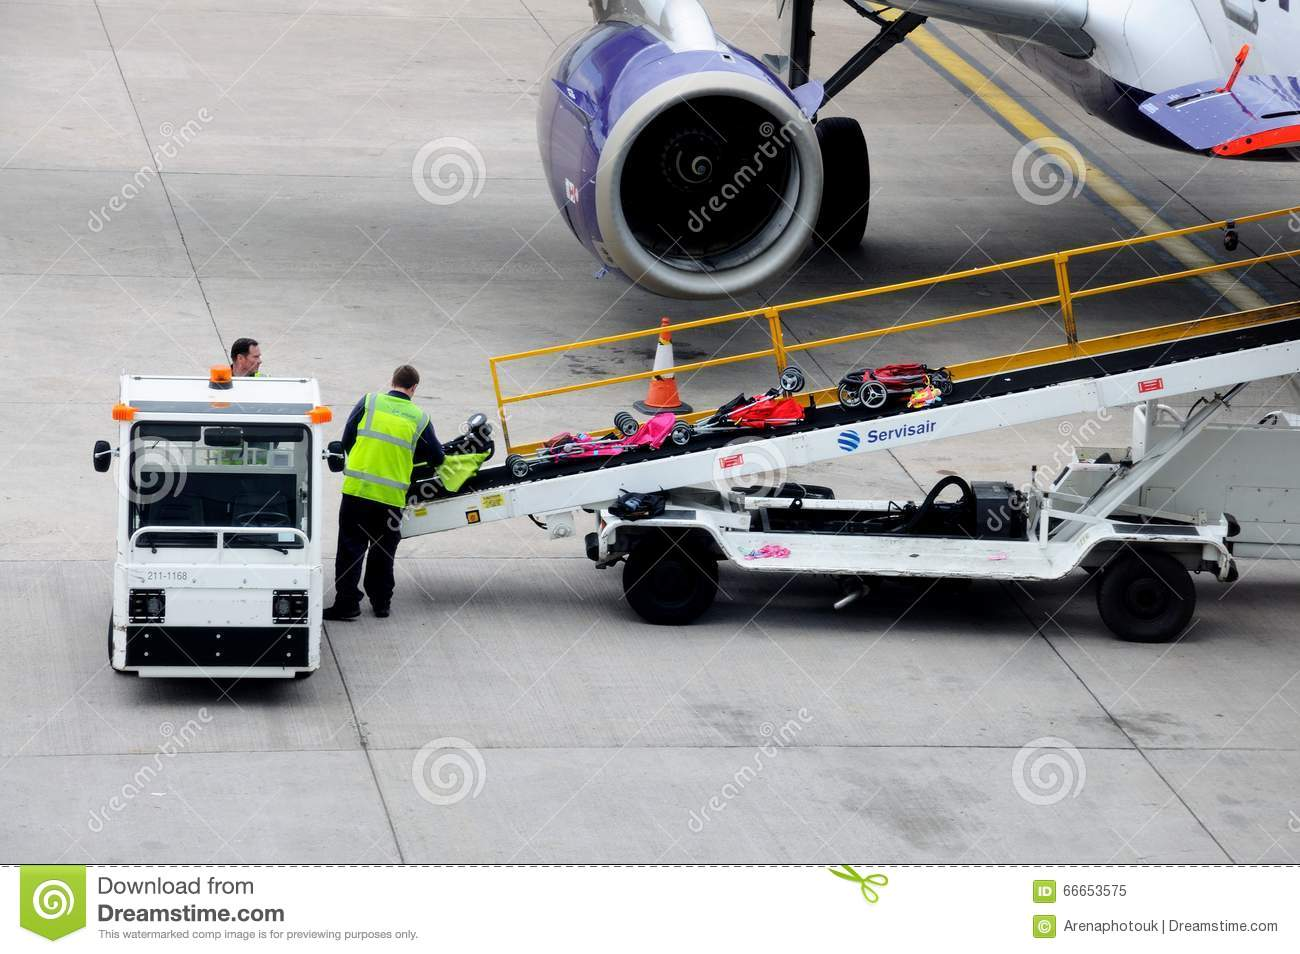baggagetruck: (351, 192, 1292, 645)
